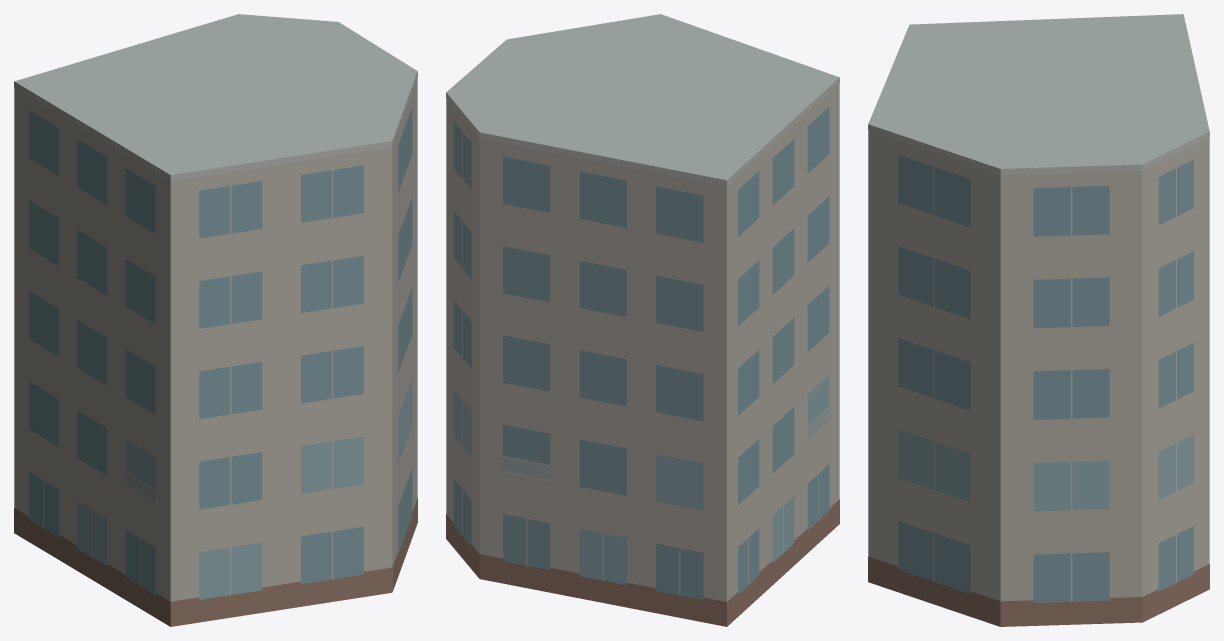
The model's file is survey-upis-32909093.glb.
3 renders of one model, left to right at view 1: azimuth 30°, elevation 25°; view 2: azimuth 150°, elevation 25°; view 3: azimuth 270°, elevation 25°, orthographic. The views are drawn at different scales.
Visible parts, largest first — view 1: survey-upis-32909093.tmp; view 2: survey-upis-32909093.tmp; view 3: survey-upis-32909093.tmp.
Part boxes in pixels (bbox=[...]): survey-upis-32909093.tmp: bbox=[14, 14, 417, 626]; survey-upis-32909093.tmp: bbox=[446, 14, 839, 626]; survey-upis-32909093.tmp: bbox=[868, 14, 1209, 626].
Bounding box in the file's own units: 13.05 × 17.97 × 12.16.
